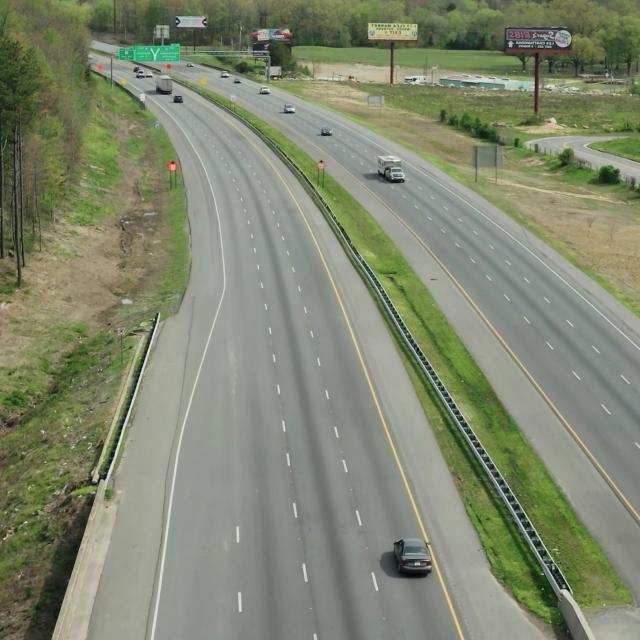Car: (391, 534, 433, 578), (376, 152, 408, 185)
